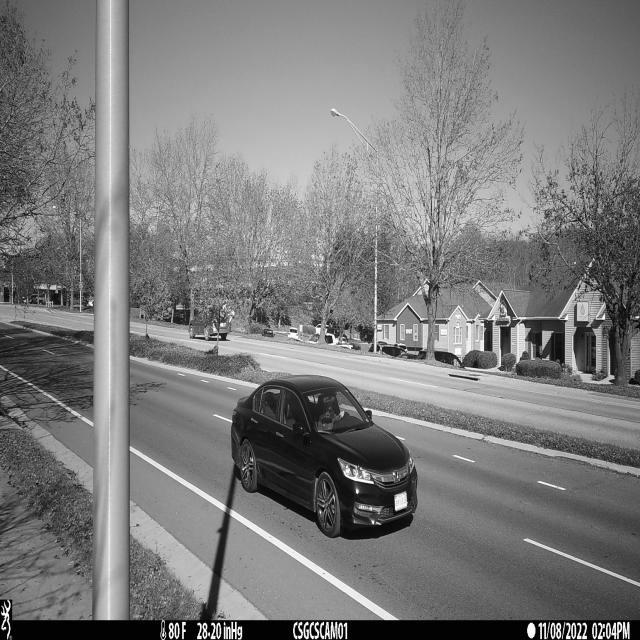Sedan: (231, 373, 417, 539)
